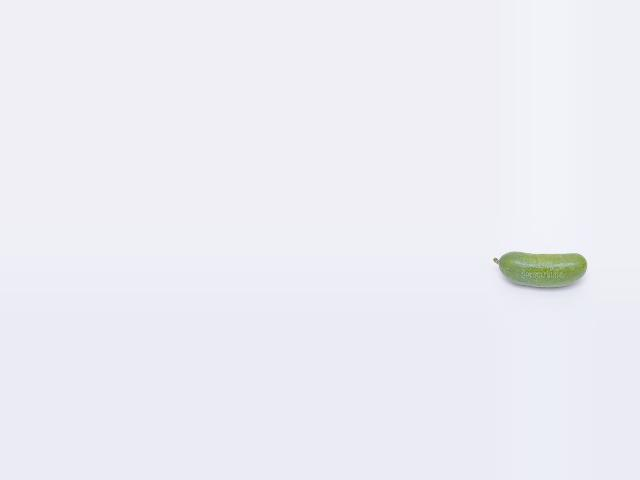cucumber: (493, 252, 587, 288)
